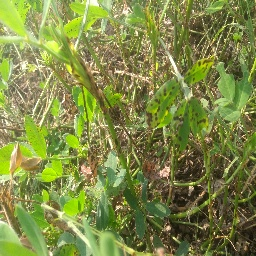GroundNut_Leaf: (14, 202, 45, 256), (147, 78, 177, 111), (73, 75, 94, 119), (23, 115, 44, 156), (186, 56, 216, 82), (219, 59, 235, 103), (130, 210, 145, 240), (107, 150, 116, 185), (41, 168, 58, 182)
